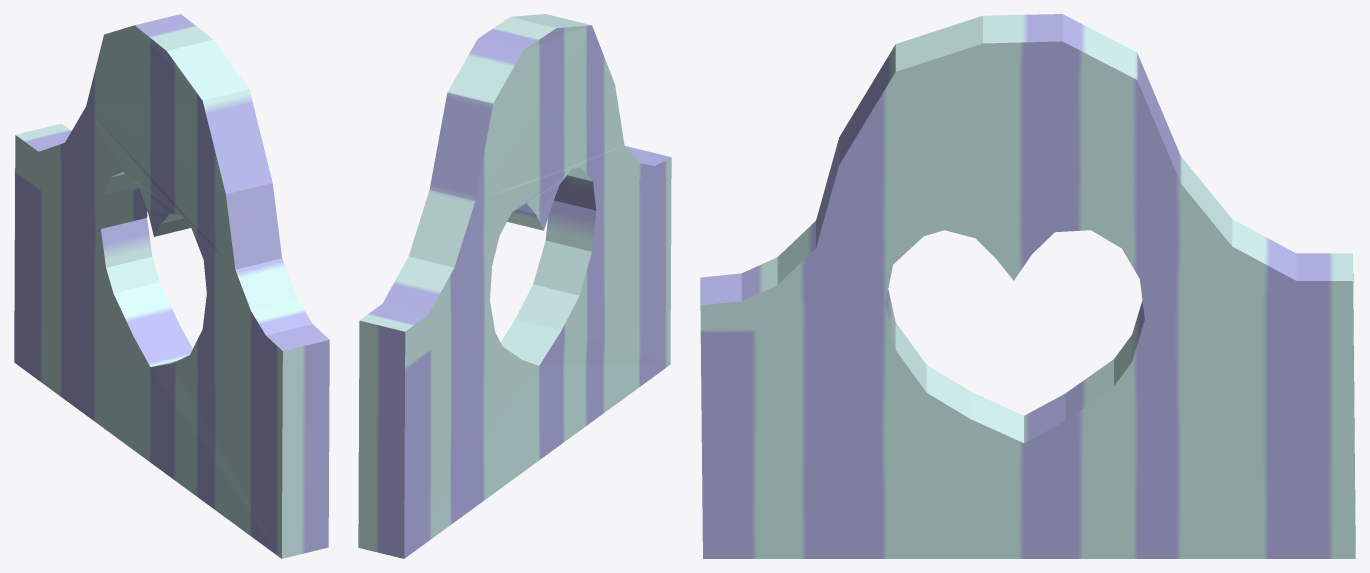
Rendered from pz-gate.comp.obj.
3 renders of one model, left to right at view 1: azimuth 30°, elevation 25°; view 2: azimuth 150°, elevation 25°; view 3: azimuth 270°, elevation 25°, orthographic. The views are drawn at different scales.
Visible parts, largest first — view 1: gate2.obj; view 2: gate2.obj; view 3: gate2.obj.
Part boxes in pixels (x1=…): gate2.obj: x1=14, y1=14, x2=329, y2=558; gate2.obj: x1=358, y1=14, x2=671, y2=558; gate2.obj: x1=700, y1=14, x2=1355, y2=558.
Size of the model in its own units: 0.2639 by 2.29 by 2.63.
Materials: 1 (1 with a texture image).
